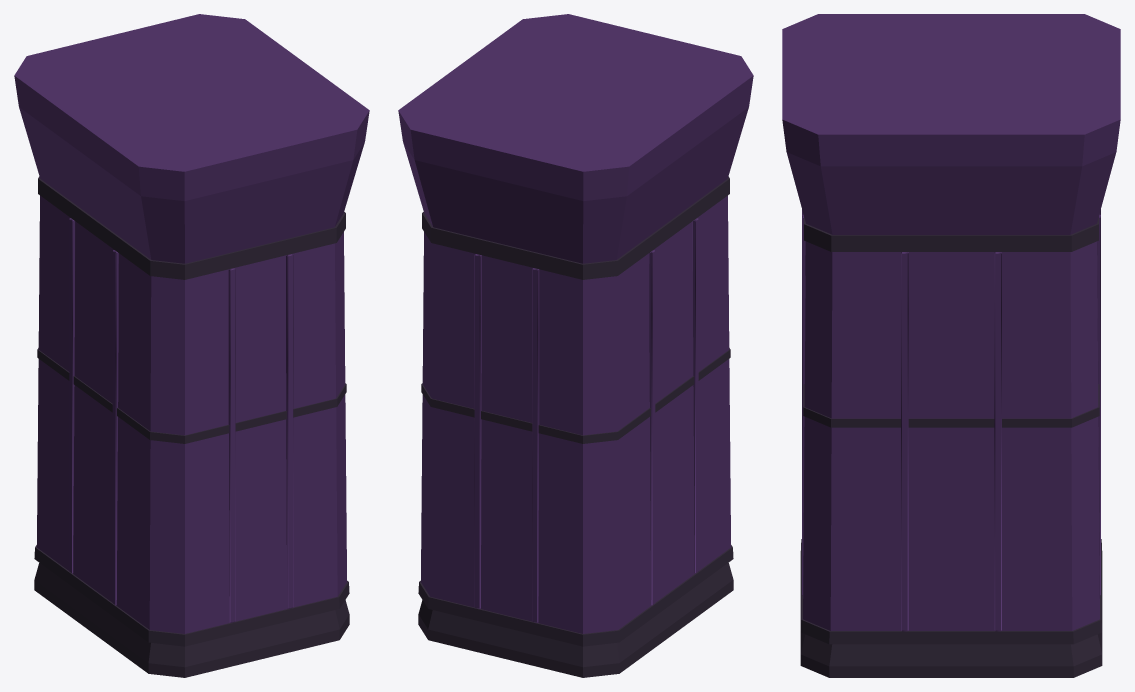
Rendered from SM_SB_Kit_AlienColumn_400x500x1150.fbx.
3 renders of one model, left to right at view 1: azimuth 30°, elevation 25°; view 2: azimuth 150°, elevation 25°; view 3: azimuth 270°, elevation 25°, orthographic. The views are drawn at different scales.
Visible parts, largest first — view 1: SM_SB_Kit_AlienColumn_400x500x1150; view 2: SM_SB_Kit_AlienColumn_400x500x1150; view 3: SM_SB_Kit_AlienColumn_400x500x1150.
Part boxes in pixels (<box>): SM_SB_Kit_AlienColumn_400x500x1150: <box>14,14,369,677</box>; SM_SB_Kit_AlienColumn_400x500x1150: <box>398,14,753,677</box>; SM_SB_Kit_AlienColumn_400x500x1150: <box>782,14,1120,677</box>.
Bounding box in the file's own units: 540 × 640 × 1150.
